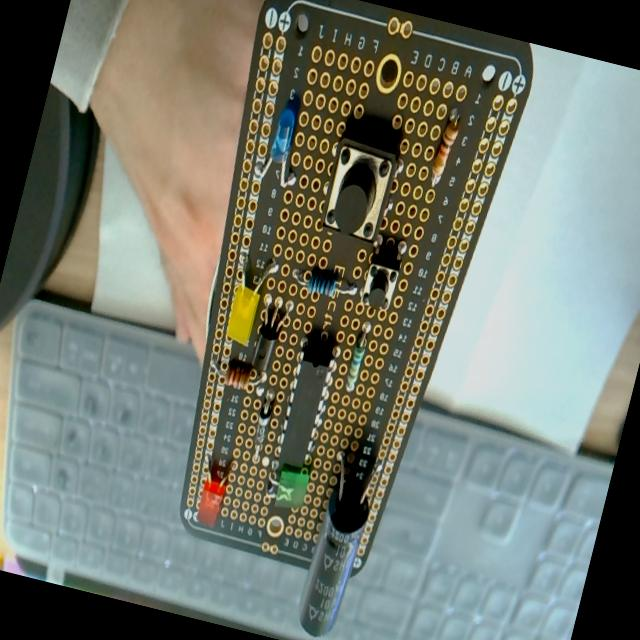Electrolytic capacitor: (290, 446, 386, 639)
IC: (272, 337, 340, 470)
diode: (248, 396, 274, 462)
led: (218, 248, 280, 352), (252, 100, 314, 194), (194, 459, 234, 529), (262, 461, 311, 509)
resistor: (290, 264, 360, 305), (207, 354, 270, 396), (427, 115, 461, 189), (342, 327, 370, 392)
switch: (316, 127, 403, 245), (358, 238, 406, 315)
transistor: (246, 297, 291, 381)
